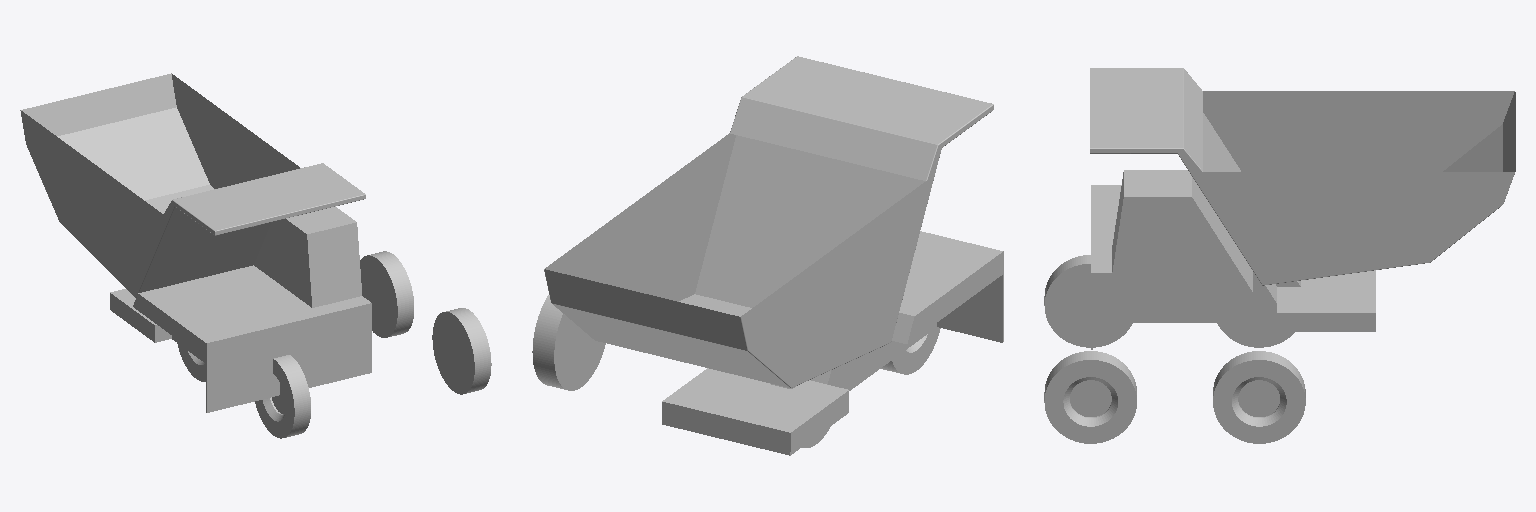
The robot description file, URDF, robot "haul truck":
<?xml version="1.0" ?>
<robot name="haul truck">
  <!--Generated by CROSS, a ROS Workbench for FreeCAD (https://github.com/galou/freecad.cross)-->
  <link name="base_link">
    <visual>
      <!--Body-->
      <origin xyz="0.0 0.0 0.0" rpy="0.0 -0.0 0.0"/>
      <geometry>
        <mesh filename="package://truck/meshes/parts_Body.dae"/>
      </geometry>
    </visual>
    <collision>
      <!--Body-->
      <origin xyz="0.0 0.0 0.0" rpy="0.0 -0.0 0.0"/>
      <geometry>
        <mesh filename="package://truck/meshes/parts_Body.dae"/>
      </geometry>
    </collision>
    <inertial>
      <mass value="0.0"/>
      <origin xyz="0.0 0.0 0.0" rpy="0.0 -0.0 0.0"/>
      <inertia ixx="0.0" ixy="0.0" ixz="0.0" iyy="0.0" iyz="0.0" izz="0.0"/>
    </inertial>
  </link>
  <link name="tray">
    <visual>
      <!--Tray23-->
      <origin xyz="0.0 0.0 0.0" rpy="0.0 -0.0 0.0"/>
      <geometry>
        <mesh filename="package://truck/meshes/parts_Tray23.dae"/>
      </geometry>
    </visual>
    <collision>
      <!--Tray23-->
      <origin xyz="0.0 0.0 0.0" rpy="0.0 -0.0 0.0"/>
      <geometry>
        <mesh filename="package://truck/meshes/parts_Tray23.dae"/>
      </geometry>
    </collision>
    <inertial>
      <mass value="0.0"/>
      <origin xyz="0.0 0.0 0.0" rpy="0.0 -0.0 0.0"/>
      <inertia ixx="0.0" ixy="0.0" ixz="0.0" iyy="0.0" iyz="0.0" izz="0.0"/>
    </inertial>
  </link>
  <link name="left_wheel">
    <visual>
      <!--Wheel-->
      <origin xyz="0.0 0.0 0.0" rpy="0.0 -0.0 0.0"/>
      <geometry>
        <mesh filename="package://truck/meshes/parts_Wheel.dae"/>
      </geometry>
    </visual>
    <inertial>
      <mass value="0.0"/>
      <origin xyz="0.0 0.0 0.0" rpy="0.0 -0.0 0.0"/>
      <inertia ixx="0.0" ixy="0.0" ixz="0.0" iyy="0.0" iyz="0.0" izz="0.0"/>
    </inertial>
  </link>
  <link name="right_wheel">
    <visual>
      <!--Wheel-->
      <origin xyz="0.0 0.0 0.0" rpy="0.0 -0.0 0.0"/>
      <geometry>
        <mesh filename="package://truck/meshes/parts_Wheel.dae"/>
      </geometry>
    </visual>
    <inertial>
      <mass value="0.0"/>
      <origin xyz="0.0 0.0 0.0" rpy="0.0 -0.0 0.0"/>
      <inertia ixx="0.0" ixy="0.0" ixz="0.0" iyy="0.0" iyz="0.0" izz="0.0"/>
    </inertial>
  </link>
  <link name="back_left_wheel">
    <visual>
      <!--Wheel-->
      <origin xyz="0.0 0.0 0.0" rpy="0.0 -0.0 0.0"/>
      <geometry>
        <mesh filename="package://truck/meshes/parts_Wheel.dae"/>
      </geometry>
    </visual>
    <inertial>
      <mass value="0.0"/>
      <origin xyz="0.0 0.0 0.0" rpy="0.0 -0.0 0.0"/>
      <inertia ixx="0.0" ixy="0.0" ixz="0.0" iyy="0.0" iyz="0.0" izz="0.0"/>
    </inertial>
  </link>
  <link name="back_right_wheel">
    <visual>
      <!--Wheel-->
      <origin xyz="0.0 0.0 0.0" rpy="0.0 -0.0 0.0"/>
      <geometry>
        <mesh filename="package://truck/meshes/parts_Wheel.dae"/>
      </geometry>
    </visual>
    <inertial>
      <mass value="0.0"/>
      <origin xyz="0.0 0.0 0.0" rpy="0.0 -0.0 0.0"/>
      <inertia ixx="0.0" ixy="0.0" ixz="0.0" iyy="0.0" iyz="0.0" izz="0.0"/>
    </inertial>
  </link>
  <joint name="body_to_tray_joint" type="revolute">
    <parent link="base_link"/>
    <child link="tray"/>
    <origin xyz="0.0 0.0 0.5" rpy="0.0 -0.0 0.0"/>
    <axis xyz="0 0 1"/>
    <limit lower="0.0" upper="0.0" velocity="0.0" effort="0.0"/>
  </joint>
  <joint name="left_wheel_joint" type="revolute">
    <parent link="base_link"/>
    <child link="left_wheel"/>
    <origin xyz="4.9 0.0 0.0" rpy="0.0 -0.0 3.141592653589793"/>
    <axis xyz="0 0 1"/>
    <limit lower="0.0" upper="0.0" velocity="0.0" effort="0.0"/>
  </joint>
  <joint name="right_wheel_joint" type="revolute">
    <parent link="base_link"/>
    <child link="right_wheel"/>
    <origin xyz="0.0 0.0 0.0" rpy="0.0 -0.0 0.0"/>
    <axis xyz="0 0 1"/>
    <limit lower="0.0" upper="0.0" velocity="0.0" effort="0.0"/>
  </joint>
  <joint name="back_left_wheel_joint" type="revolute">
    <parent link="base_link"/>
    <child link="back_left_wheel"/>
    <origin xyz="4.9 4.0 0.0" rpy="0.0 -0.0 3.141592653589793"/>
    <axis xyz="0 0 1"/>
    <limit lower="0.0" upper="0.0" velocity="0.0" effort="0.0"/>
  </joint>
  <joint name="back_right_wheel_joint" type="revolute">
    <parent link="base_link"/>
    <child link="back_right_wheel"/>
    <origin xyz="0.0 4.0 0.0" rpy="0.0 -0.0 0.0"/>
    <axis xyz="0 0 1"/>
    <limit lower="0.0" upper="0.0" velocity="0.0" effort="0.0"/>
  </joint>
</robot>

--- Render facts (derived) ---
The picture shows the robot from 3 angles, left to right: view 1: azimuth 30°, elevation 25°; view 2: azimuth 150°, elevation 25°; view 3: azimuth 270°, elevation 25°; orthographic projection.
Robot: haul truck — 6 links, 5 joints (5 revolute); root link base_link; default pose: every joint at zero.
Links seen in each view (by area): view 1: tray, base_link, left_wheel, back_left_wheel, right_wheel; view 2: tray, base_link, back_left_wheel, right_wheel; view 3: tray, base_link, left_wheel, back_left_wheel, right_wheel, back_right_wheel.
Boxes of the visible links, x1,y1,x2,y2 form: tray: [20, 73, 365, 297]; base_link: [110, 206, 371, 412]; left_wheel: [432, 308, 491, 394]; back_left_wheel: [360, 251, 413, 337]; right_wheel: [255, 355, 310, 438]; tray: [544, 56, 993, 387]; base_link: [662, 231, 1003, 455]; back_left_wheel: [532, 295, 605, 390]; right_wheel: [881, 327, 940, 374]; tray: [1090, 68, 1515, 285]; base_link: [1091, 170, 1375, 349]; left_wheel: [1044, 351, 1136, 443]; back_left_wheel: [1213, 351, 1305, 443]; right_wheel: [1044, 255, 1132, 347]; back_right_wheel: [1217, 281, 1300, 347].
Bounding box of the posed robot: 7.9 × 11.18 × 6.27 m (x, y, z).
Meshes: 3 distinct files referenced, 6 mesh visuals loaded (3 Collada DAE).
